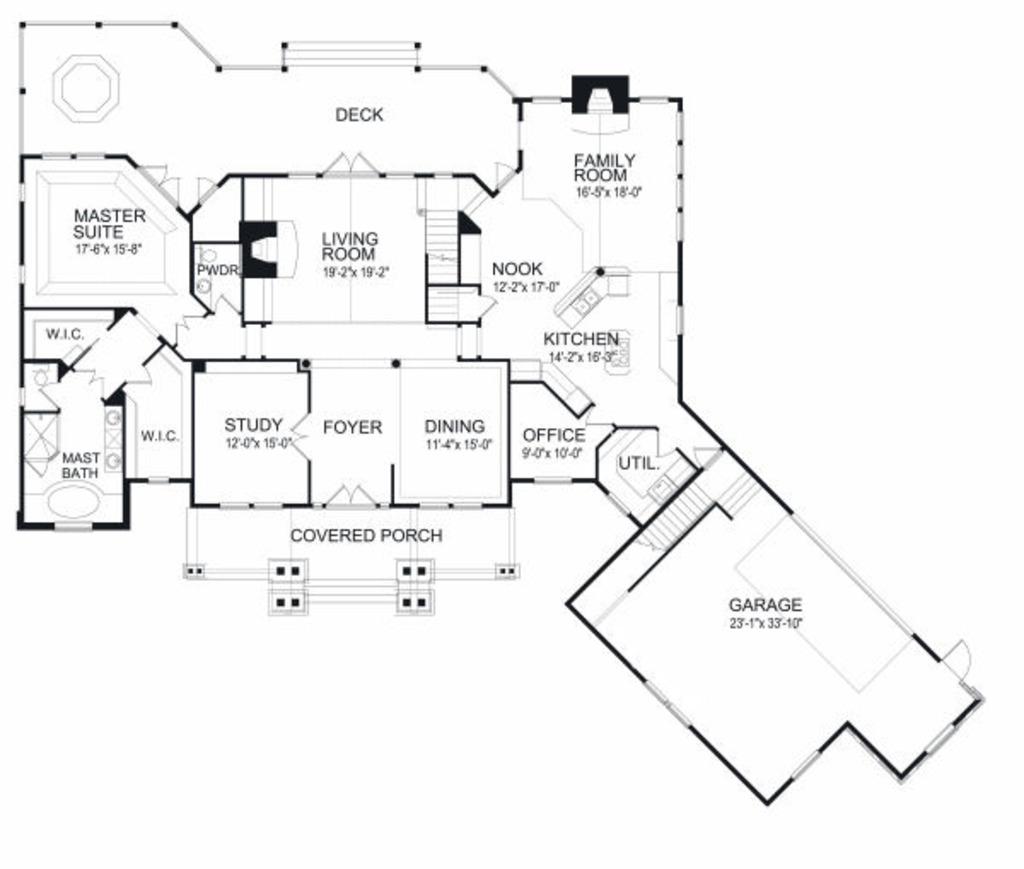dog: (189, 277, 219, 303)
door: (914, 625, 986, 686), (136, 154, 188, 208), (315, 147, 384, 180), (165, 311, 213, 347), (317, 482, 383, 508), (686, 435, 727, 471), (647, 421, 681, 464), (288, 416, 316, 464), (190, 170, 224, 209), (66, 369, 118, 394), (486, 158, 518, 193), (469, 292, 503, 324), (206, 292, 241, 320), (122, 365, 158, 391), (25, 457, 55, 477), (42, 385, 66, 408)
kitchen_bar: (608, 329, 633, 379)
large_sink: (194, 243, 224, 270)
small_sink: (108, 404, 120, 474)
stairs: (622, 450, 763, 569), (416, 180, 465, 335)
tub: (46, 484, 113, 524)
twin_sink: (568, 283, 611, 328)
window: (667, 108, 693, 245), (635, 679, 693, 738), (790, 729, 832, 807), (917, 715, 962, 766), (519, 470, 594, 493), (36, 144, 102, 166), (522, 91, 566, 110), (635, 95, 673, 111)
